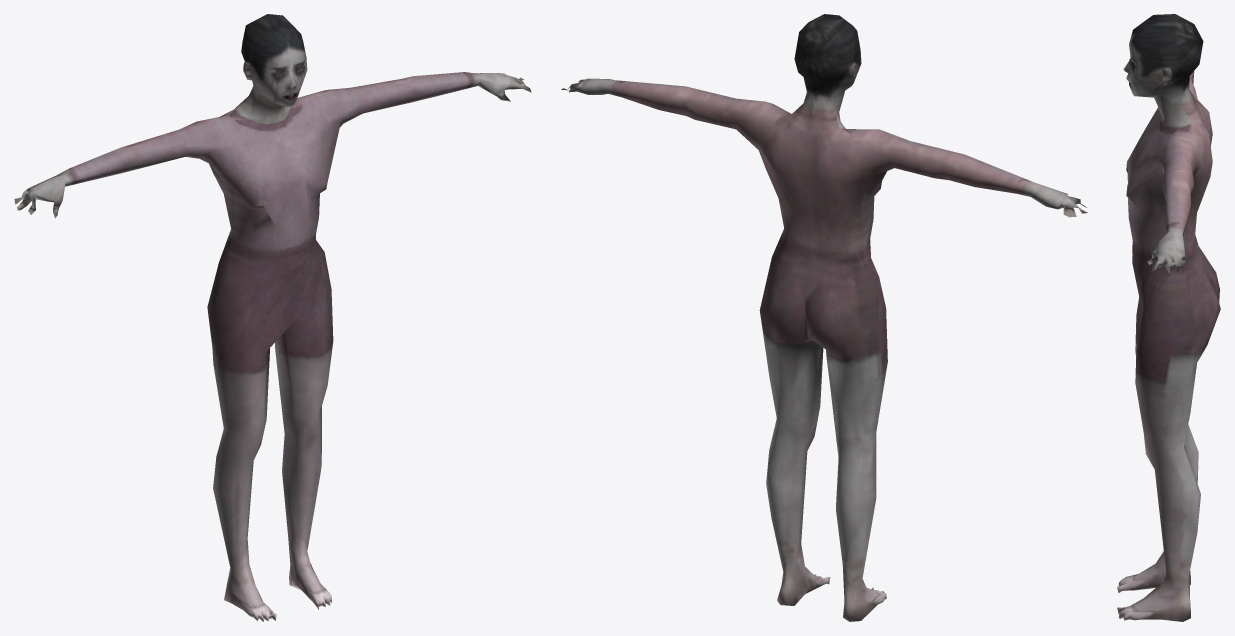
The model's file is pg_ballerina.obj.
The picture shows the model from 3 angles, left to right: view 1: azimuth 30°, elevation 25°; view 2: azimuth 150°, elevation 25°; view 3: azimuth 270°, elevation 25°; orthographic projection.
Visible parts, largest first — view 1: pg_ballerina; view 2: pg_ballerina; view 3: pg_ballerina.
Part boxes in pixels (x1=…): pg_ballerina: x1=14, y1=14, x2=531, y2=621; pg_ballerina: x1=561, y1=14, x2=1087, y2=621; pg_ballerina: x1=1117, y1=14, x2=1220, y2=621.
Size of the model in its own units: 1.69 by 1.83 by 0.2927.
1 material, 1 textured.
